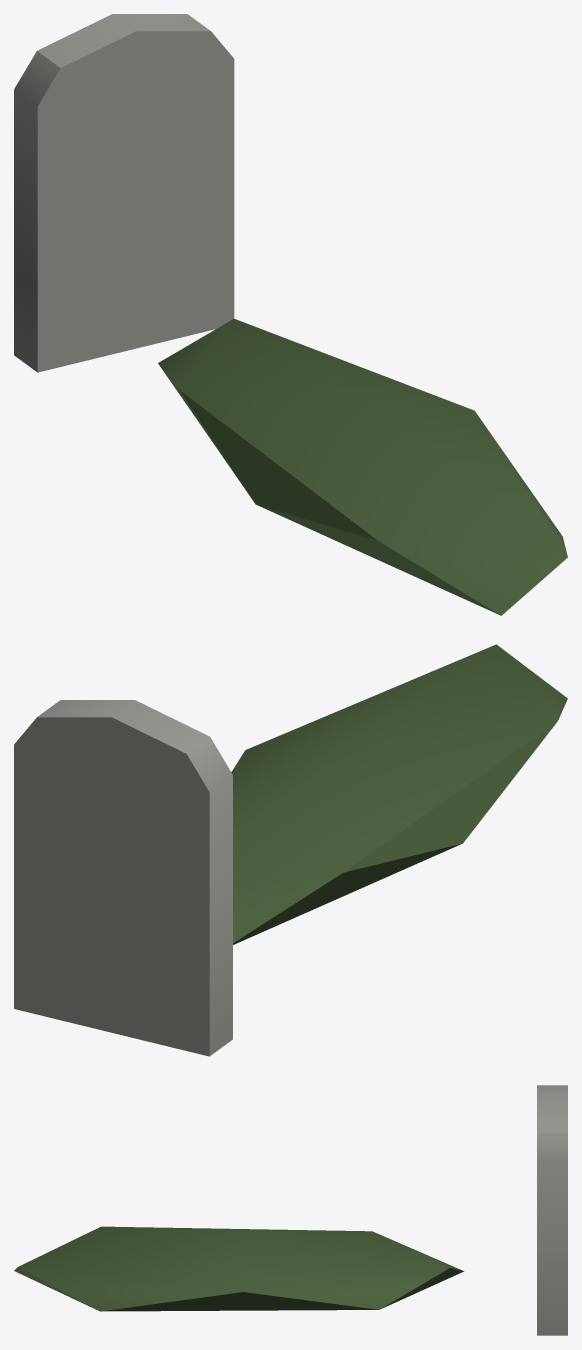
The model's file is Grave.fbx.
The picture shows the model from 3 angles, top to bottom: view 1: azimuth 30°, elevation 25°; view 2: azimuth 150°, elevation 25°; view 3: azimuth 270°, elevation 25°; orthographic projection. The views are drawn at different scales.
Parts seen in each view (by area): view 1: Grave; view 2: Grave; view 3: Grave.
Boxes of the visible parts, bbox=[...] form: Grave: bbox=[14, 14, 567, 615]; Grave: bbox=[14, 644, 567, 1056]; Grave: bbox=[14, 1085, 567, 1335].
Bounding box in the file's own units: 0.5347 × 0.74 × 1.79.
